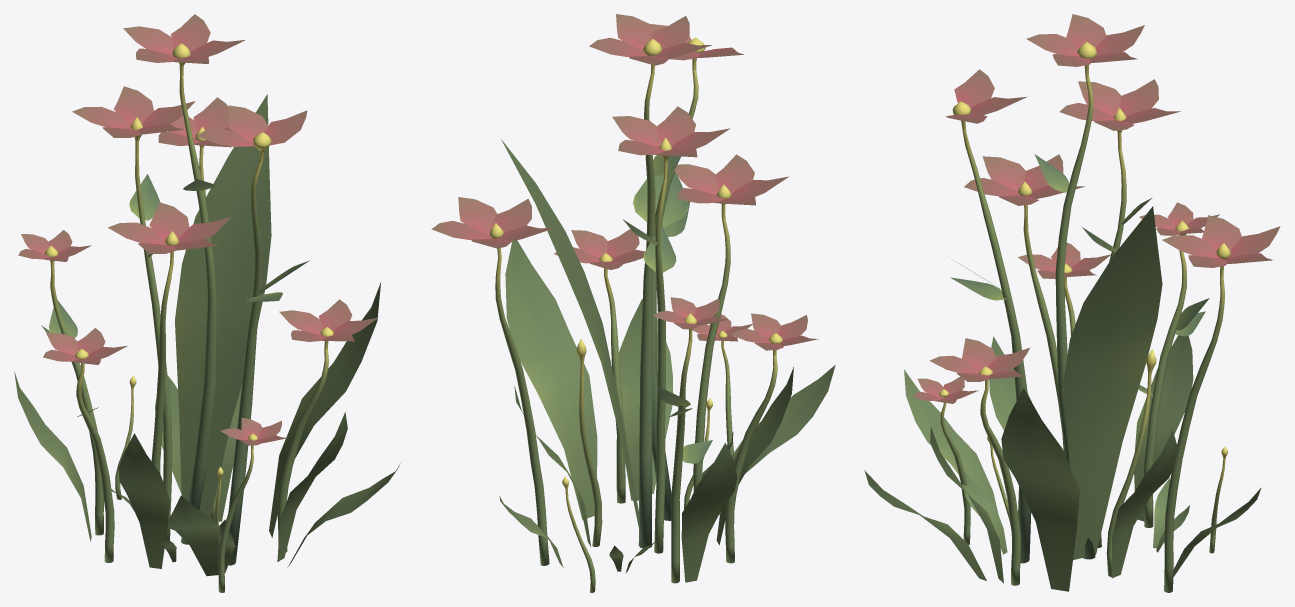
File: flowersSTG3.fbx
The picture shows the model from 3 angles, left to right: view 1: azimuth 30°, elevation 25°; view 2: azimuth 150°, elevation 25°; view 3: azimuth 270°, elevation 25°; orthographic projection. The views are drawn at different scales.
Visible parts, largest first — view 1: COPY flower bud leaf tall.001, flower bud2.002, flower bud2.011, COPY flower bud leaf bend small.020, COPY flower bud leaf bend small.010, flower bud2.007, COPY flower bud leaf bend small.019, COPY flower bud leaf bend small.016, COPY flower bud leaf bend small.018, flower bud2.013, flower bud2.006, flower bud2.012 (+20 smaller); view 2: COPY flower bud leaf bend small.010, flower bud2.002, COPY flower bud leaf tall.001, COPY flower bud leaf bend small.018, flower bud2.007, COPY flower bud leaf bend small.016, flower bud2.015, COPY flower bud leaf bend small.019, flower bud2.006, flower bud2.011, flower bud2.012, COPY flower bud leaf bend small.020 (+23 smaller); view 3: COPY flower bud leaf tall.001, COPY flower bud leaf bend small.010, COPY flower bud leaf bend small.018, flower bud2.002, flower bud2.011, flower bud2.015, COPY flower bud leaf bend small.019, COPY flower bud leaf bend small.012, flower bud2.012, flower bud2.014, flower bud2.006, flower bud2.008 (+27 smaller).
Boxes of the visible parts, x1,y1,x2,y2 form: COPY flower bud leaf tall.001: (175,94,271,516); flower bud2.002: (172,43,216,544); flower bud2.011: (228,132,271,565); COPY flower bud leaf bend small.020: (118,433,170,568); COPY flower bud leaf bend small.010: (269,282,380,537); flower bud2.007: (131,117,172,540); COPY flower bud leaf bend small.019: (168,496,219,576); COPY flower bud leaf bend small.016: (277,412,347,561); COPY flower bud leaf bend small.018: (14,371,91,541); flower bud2.013: (75,349,114,562); flower bud2.006: (151,231,178,473); flower bud2.012: (45,245,103,535); COPY flower bud leaf bend small.010: (505,240,597,520); flower bud2.002: (638,39,661,548); COPY flower bud leaf tall.001: (501,139,642,545); COPY flower bud leaf bend small.018: (681,443,737,582); flower bud2.007: (654,137,671,553); COPY flower bud leaf bend small.016: (619,299,657,500); flower bud2.015: (490,223,549,565); COPY flower bud leaf bend small.019: (731,365,835,473); flower bud2.006: (693,184,731,547); flower bud2.011: (652,37,705,520); flower bud2.012: (671,313,697,583); COPY flower bud leaf bend small.020: (716,367,793,545); COPY flower bud leaf tall.001: (1063,206,1162,559); COPY flower bud leaf bend small.010: (1001,388,1079,591); COPY flower bud leaf bend small.018: (1134,335,1193,521); flower bud2.002: (1055,42,1096,559); flower bud2.011: (952,101,1031,563); flower bud2.015: (1164,243,1230,592); COPY flower bud leaf bend small.019: (904,369,998,513); COPY flower bud leaf bend small.012: (1111,430,1177,578); flower bud2.012: (1144,220,1188,527); flower bud2.014: (979,366,1020,585); flower bud2.006: (1018,181,1064,453); flower bud2.008: (1106,349,1156,576).
Bounding box in the file's own units: 56.36 × 85.42 × 62.24.
